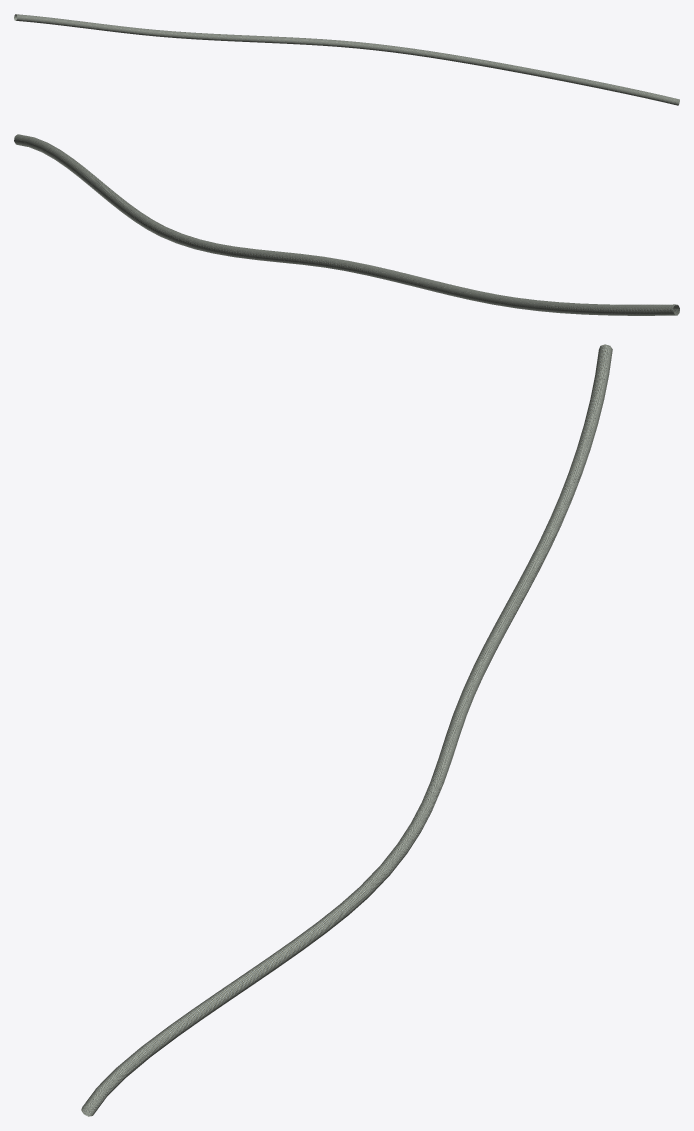
File: microtubule4.fbx
3 views of the same model, one above another, from view 1: azimuth 30°, elevation 25°; view 2: azimuth 150°, elevation 25°; view 3: azimuth 270°, elevation 25° (orthographic). The views are drawn at different scales.
Visible parts, largest first — view 1: microtubule4; view 2: microtubule4; view 3: microtubule4.
Boxes of the visible parts, x1,y1,x2,y2 form: microtubule4: (14,14,679,105); microtubule4: (14,134,679,315); microtubule4: (81,344,612,1116).
Size of the model in its own units: 13123 by 2962 by 5637.
1 material, 1 textured.
